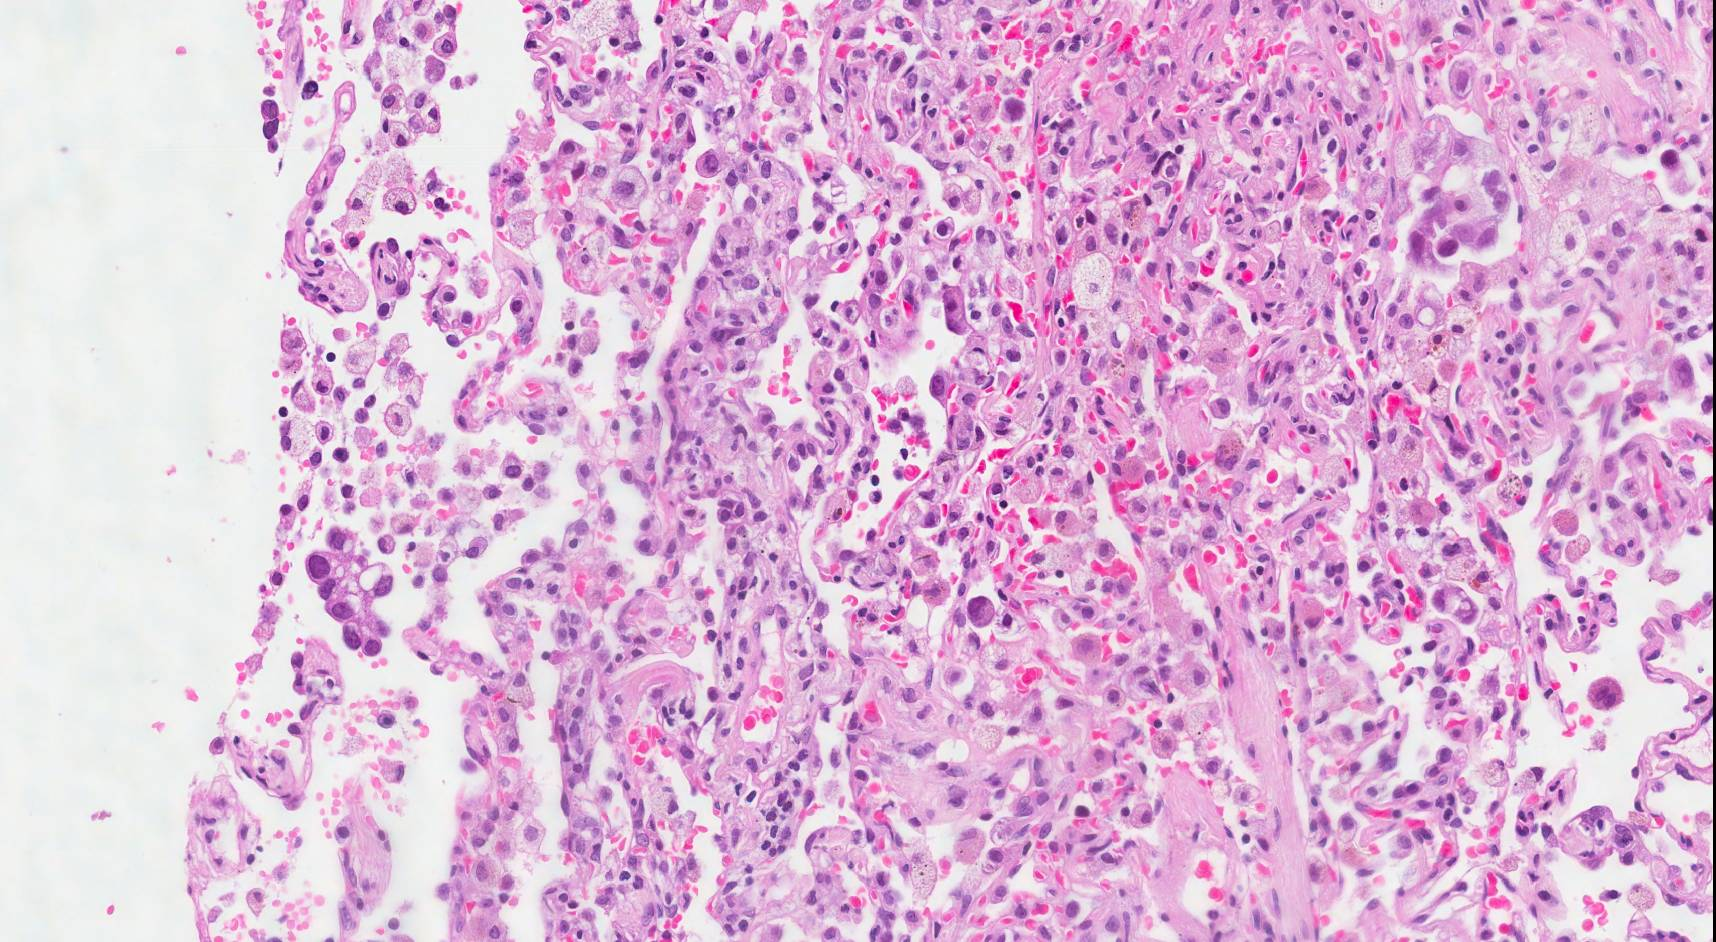stas: (302, 522, 403, 665), (1405, 171, 1513, 270)
